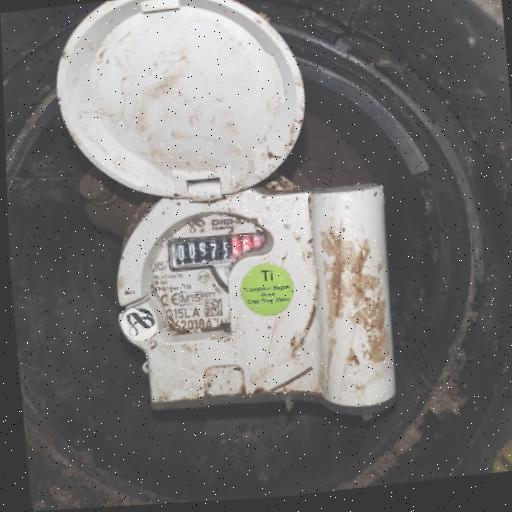0: (174, 241, 188, 265), (186, 241, 199, 264)
3: (252, 234, 263, 251)
4: (231, 237, 243, 259)
5: (219, 237, 234, 261)
6: (240, 236, 253, 256)
7: (207, 239, 221, 262)
9: (196, 240, 210, 262)
border_water_meter_number: (170, 230, 265, 272)
